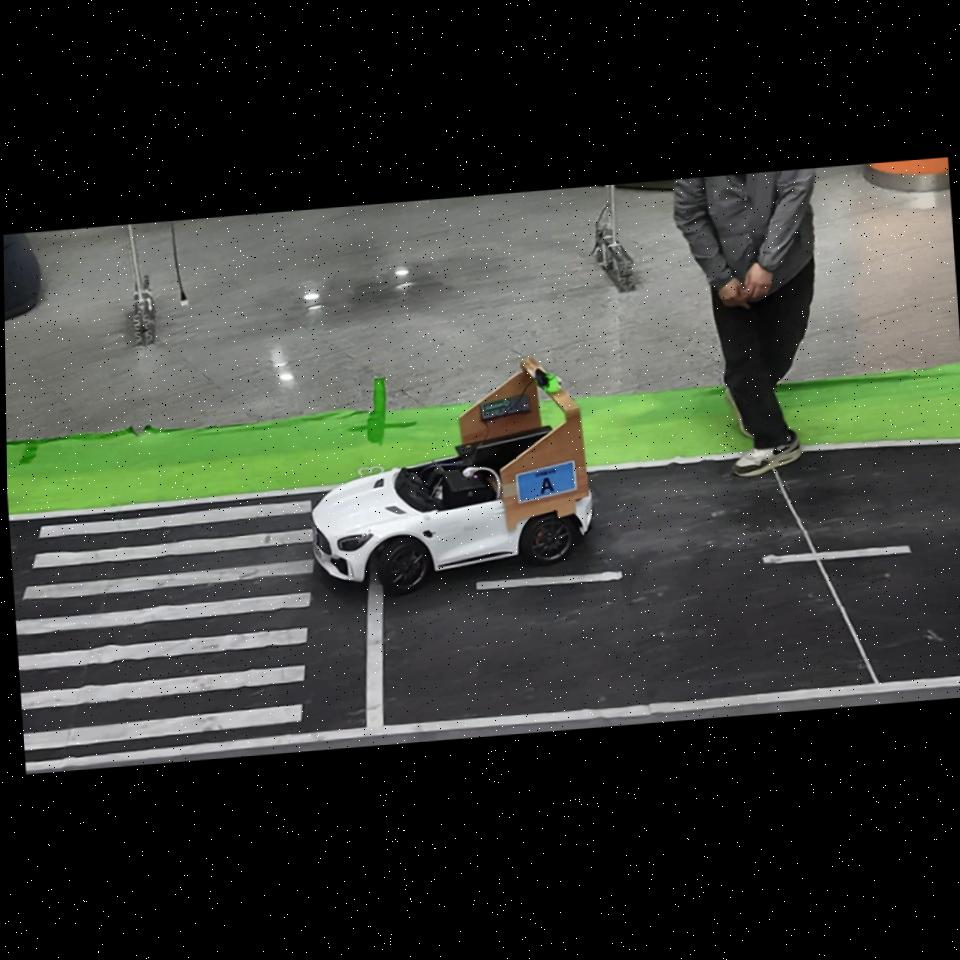broken_line: (476, 571, 623, 589), (763, 546, 912, 563)
crosswalk: (16, 501, 315, 750)
